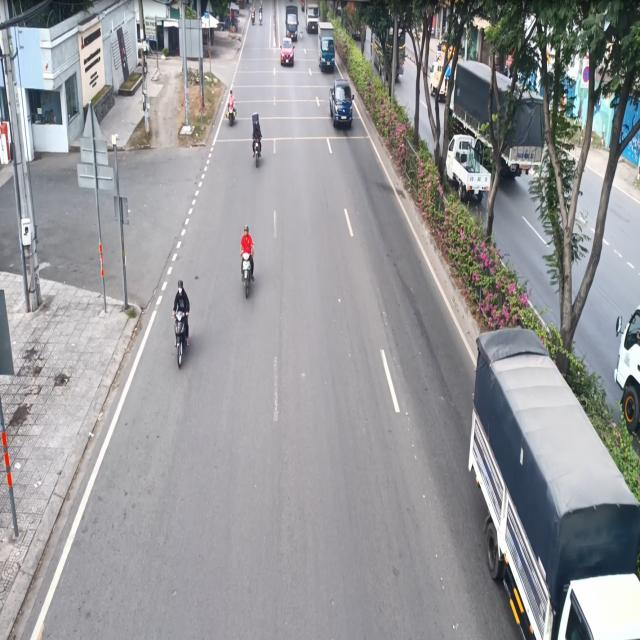car: (278, 33, 295, 67)
motorbike: (172, 278, 190, 364), (238, 215, 255, 294), (252, 107, 266, 162), (226, 85, 238, 135)
truck: (466, 309, 639, 640), (330, 78, 356, 136), (318, 19, 338, 75)
